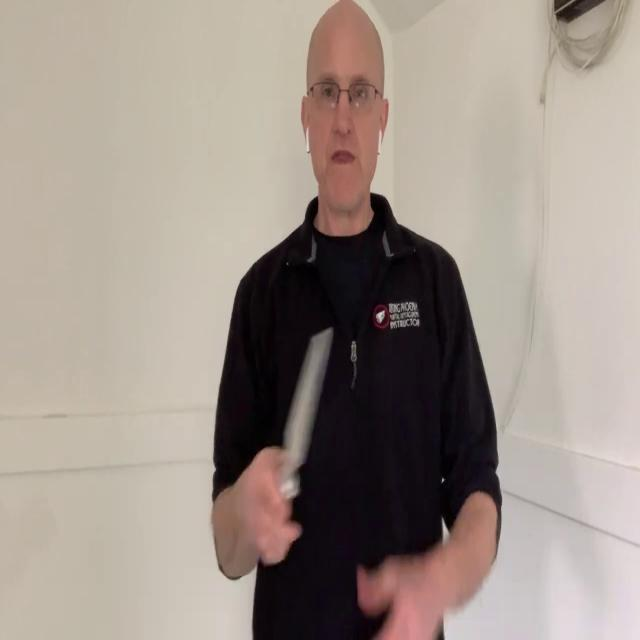Knife_Handle: (240, 325, 333, 564)
